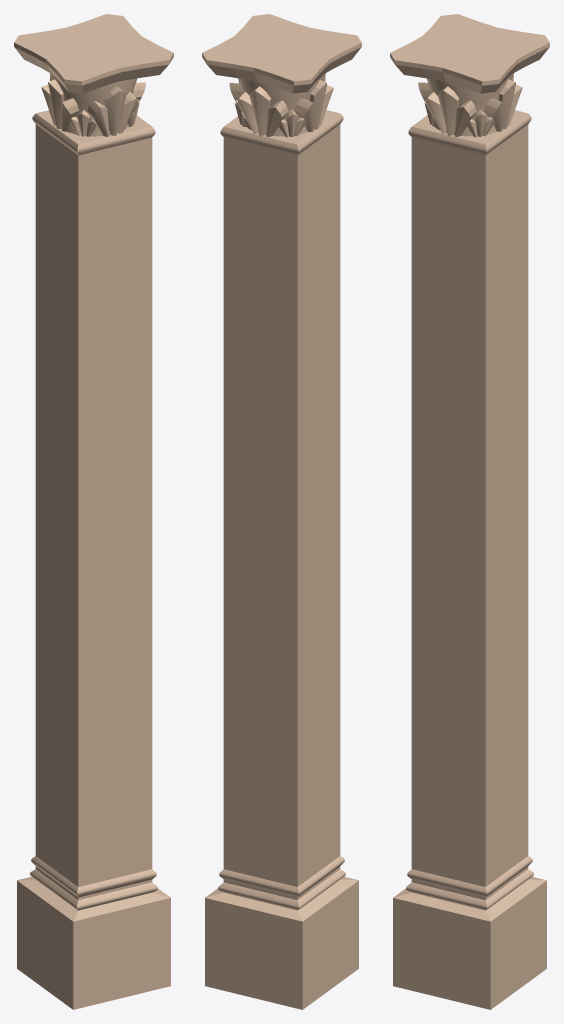
Rendered from BC_Pillar_C.fbx.
3 views of the same model, side by side, from view 1: azimuth 30°, elevation 25°; view 2: azimuth 150°, elevation 25°; view 3: azimuth 330°, elevation 25° (orthographic).
Visible parts, largest first — view 1: BC_Pillar_C; view 2: BC_Pillar_C; view 3: BC_Pillar_C.
Boxes of the visible parts, <box> form: BC_Pillar_C: <box>14,14,173,1009</box>; BC_Pillar_C: <box>202,14,361,1009</box>; BC_Pillar_C: <box>390,14,549,1009</box>.
Bounding box in the file's own units: 148 × 1203 × 148.
